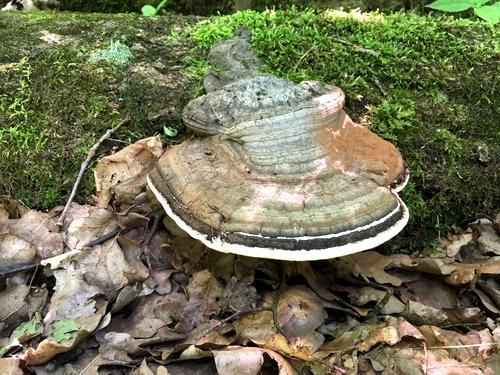Ganoderma - Fruit Body: (150, 79, 410, 263)
